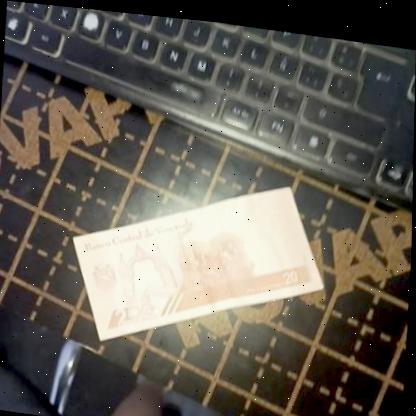twenty-back-vef: (69, 154, 332, 365)
